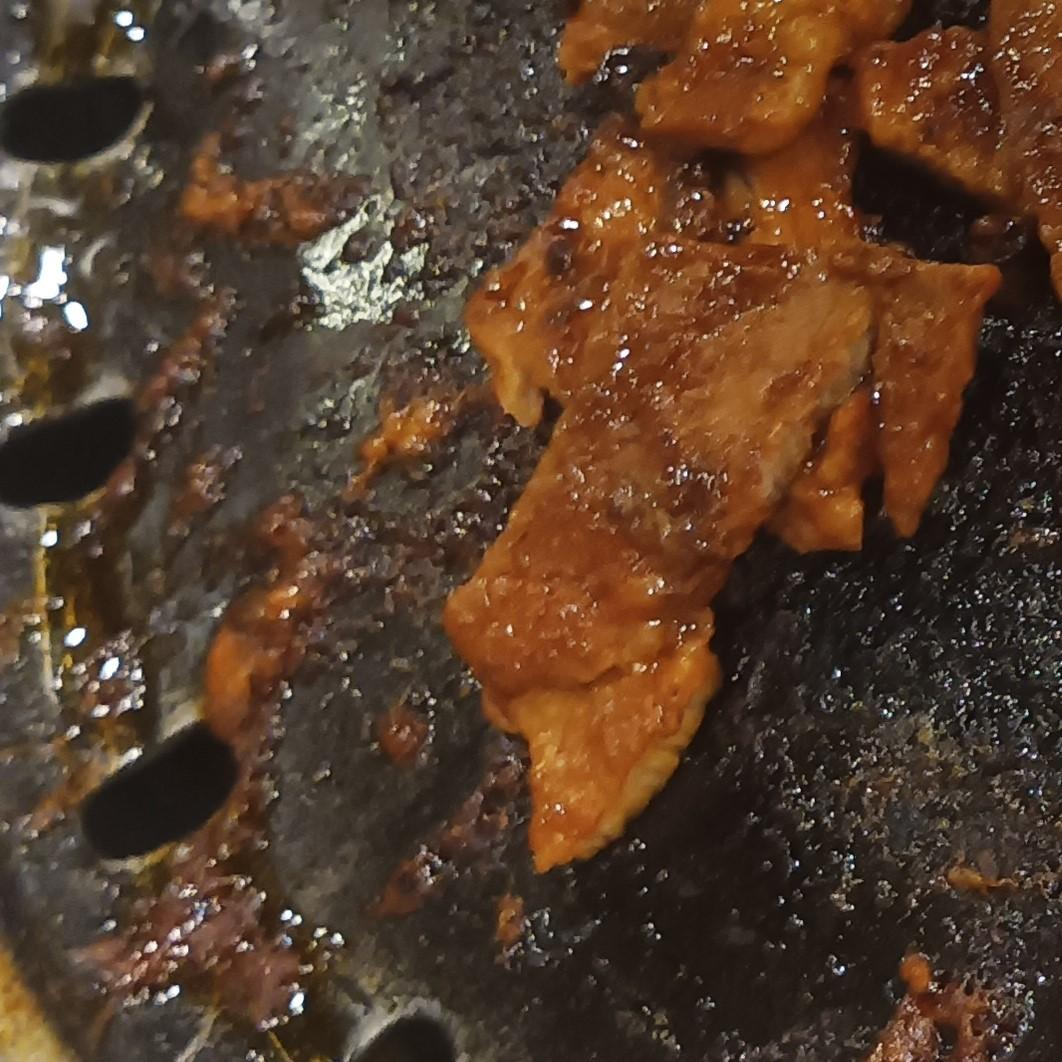Overcooked: (854, 0, 1056, 284)
Well-Cooked: (441, 127, 1003, 878), (634, 0, 905, 155)
